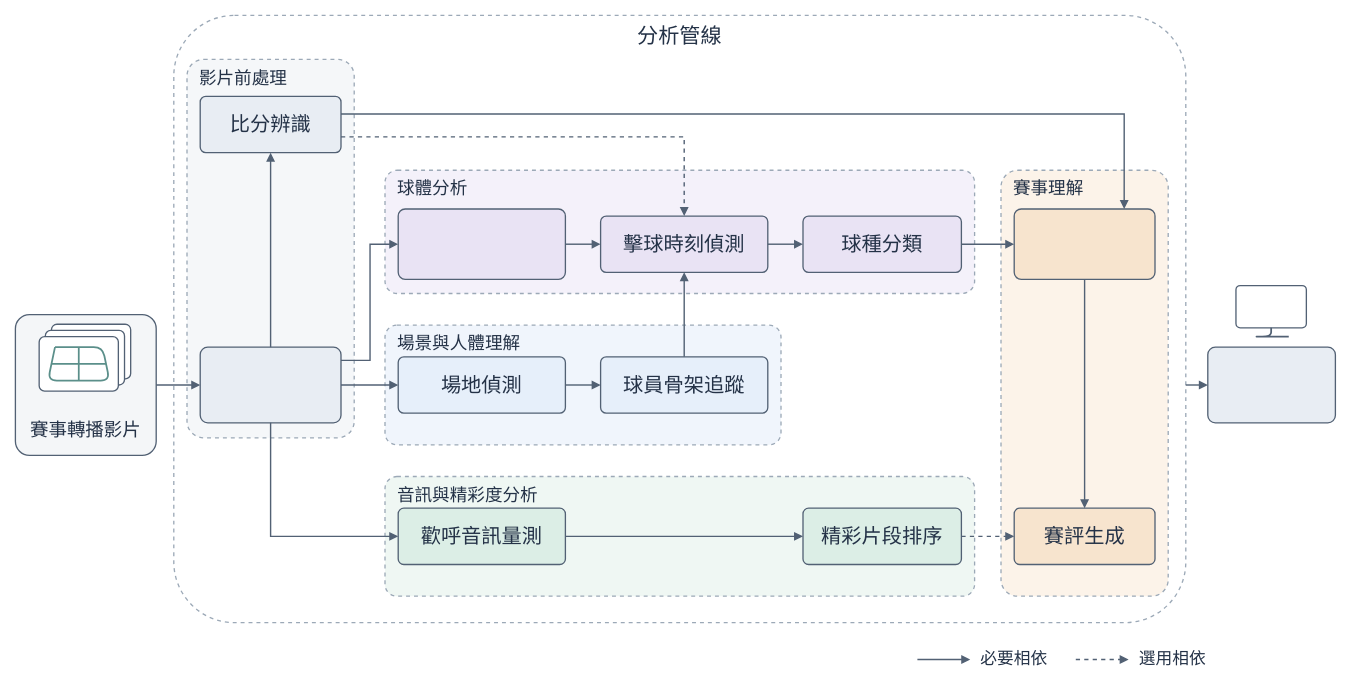
Some shapes in this 1352 by 687 pixel diagram are drawn without their labels. The shapes that lost their labels are listed below. From the top down, each one's box as (x1, y1, x2, y2) in pixels, then its label:
(397, 208, 566, 280): 球體追蹤與 軌跡重建
(1013, 208, 1155, 280): 球員身分 對應
(199, 346, 341, 423): 賽事影片 分段
(1207, 346, 1336, 423): 回看介面
